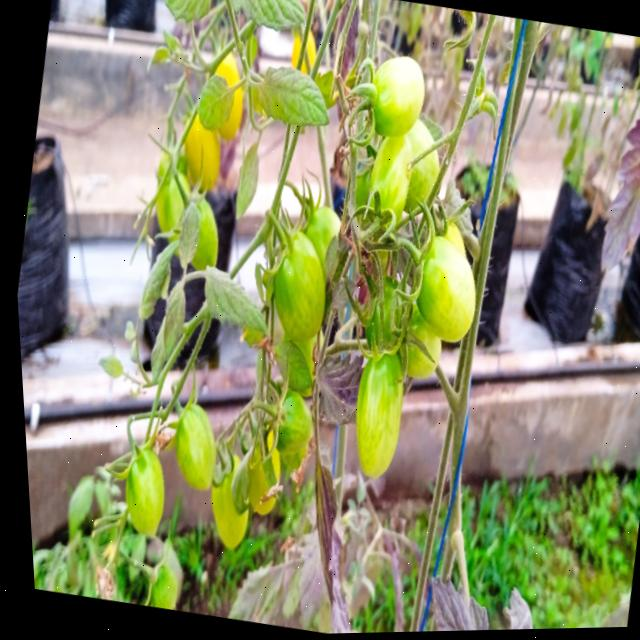fine: (192, 59, 258, 148), (236, 419, 290, 512), (174, 104, 230, 189), (278, 27, 335, 107)
unripe: (394, 224, 492, 351), (335, 107, 428, 226), (251, 230, 335, 355), (334, 360, 412, 481), (96, 429, 173, 539), (291, 179, 359, 295), (146, 392, 223, 492), (158, 192, 237, 287), (355, 51, 437, 142), (195, 431, 256, 552), (384, 104, 451, 209), (384, 292, 457, 388), (142, 166, 200, 252), (264, 403, 321, 476), (131, 543, 190, 613), (14, 165, 37, 254)
